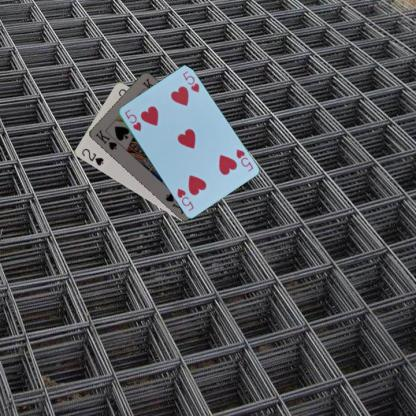2s: (79, 146, 105, 167)
5h: (233, 146, 254, 173), (122, 107, 142, 132)
Ks: (92, 127, 118, 151)
